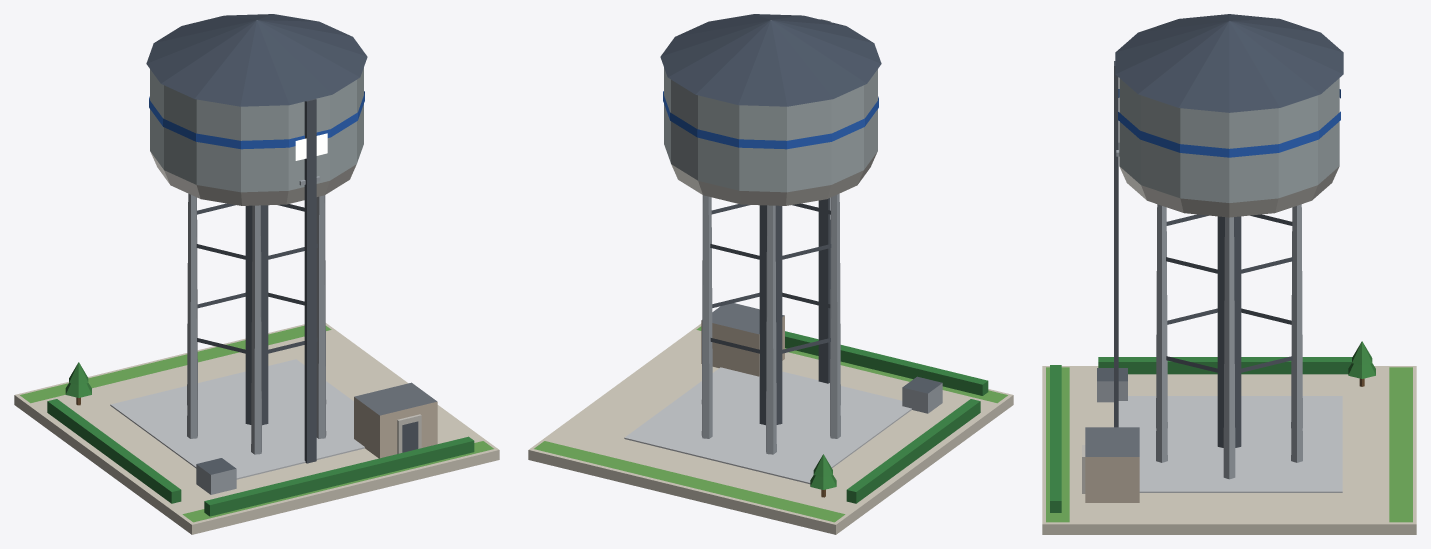
The picture shows the model from 3 angles, left to right: view 1: azimuth 30°, elevation 25°; view 2: azimuth 150°, elevation 25°; view 3: azimuth 270°, elevation 25°; orthographic projection. The views are drawn at different scales.
Visible parts, largest first — view 1: b76_x1; view 2: b76_x1; view 3: b76_x1.
Boxes of the visible parts, box(x1,y1,x2,y2) form: b76_x1: box(14, 14, 499, 534); b76_x1: box(528, 14, 1013, 534); b76_x1: box(1042, 14, 1416, 534).
Size of the model in its own units: 0.96 by 1.23 by 0.96.
